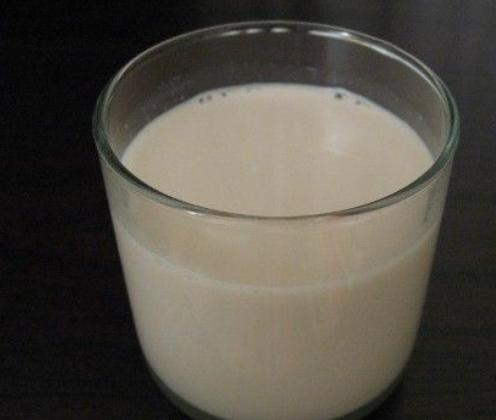produk_susu: (139, 44, 403, 409)
